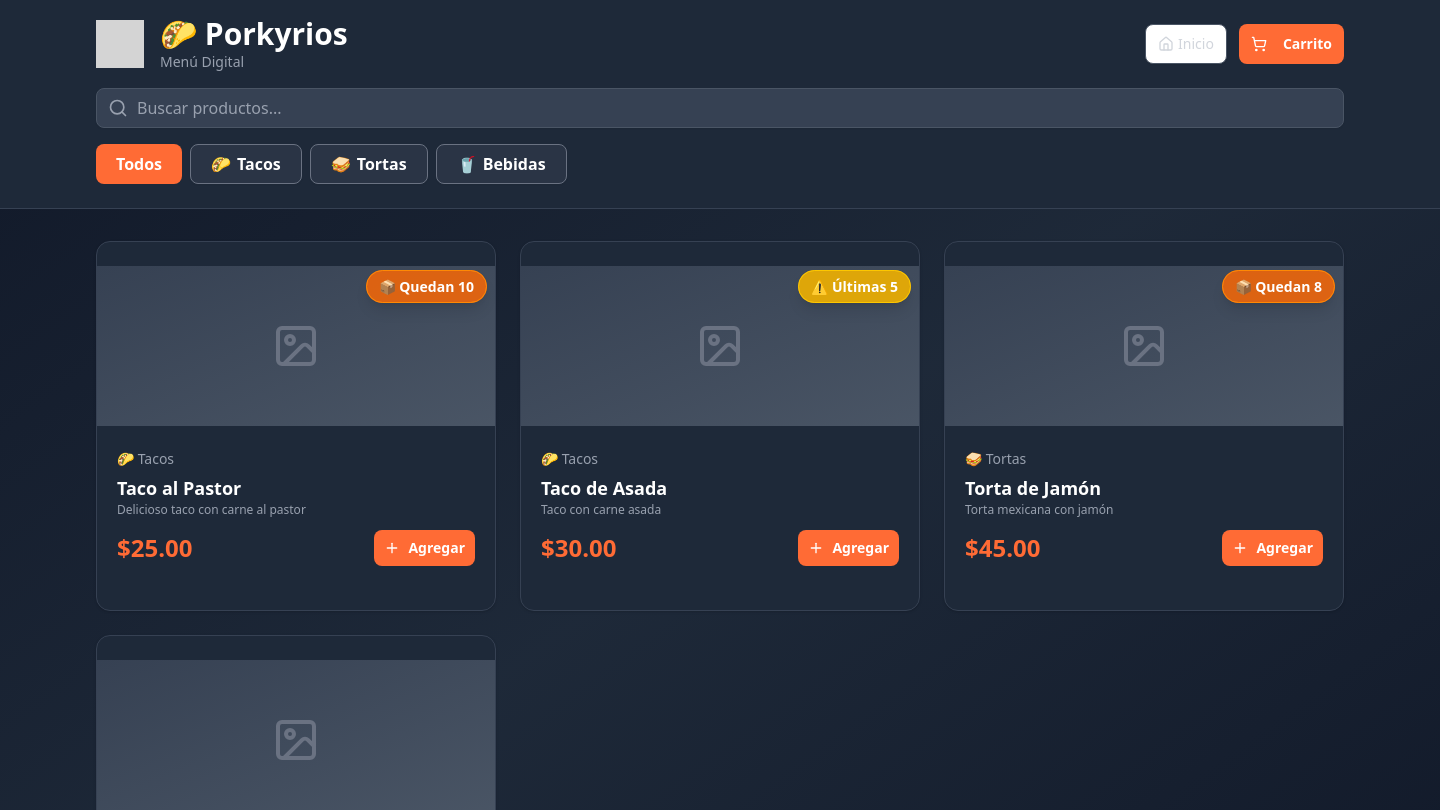
it: MenuPage Component › Search Functionality › should show empty state when no results
The image size is (1440, 810).
Expected: the heading "Taco al Pastor" is shown, left=117, top=476, right=241, bottom=500
Type "xyz123nonexistent" into the field with placeholder "Buscar productos...".
click(720, 108); type("xyz123nonexistent")  # box left=96, top=88, right=1344, bottom=128
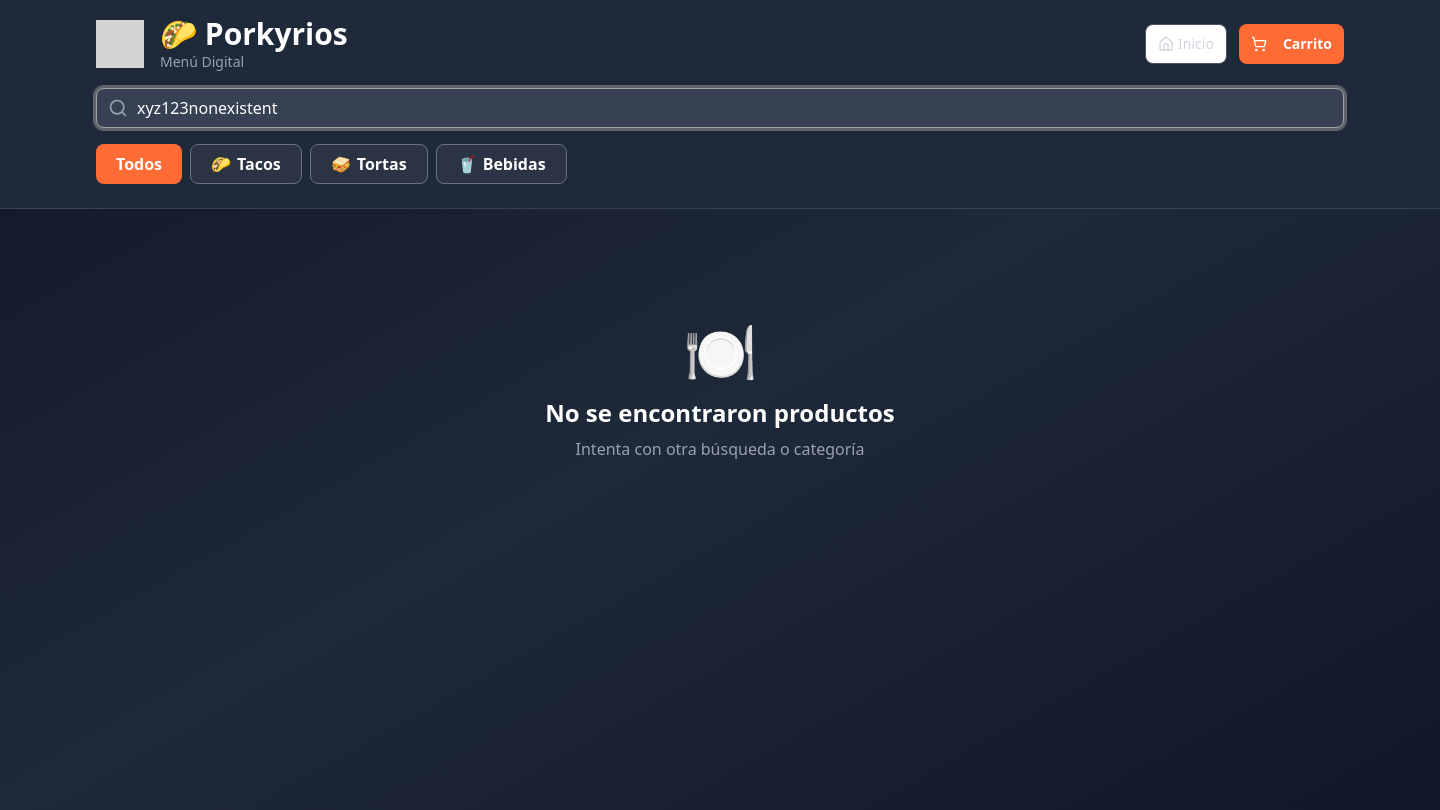
Now the heading "No se encontraron productos" is shown, box left=545, top=396, right=895, bottom=429
Now the text "Intenta con otra búsqueda o categoría" is shown, box left=576, top=438, right=864, bottom=460
